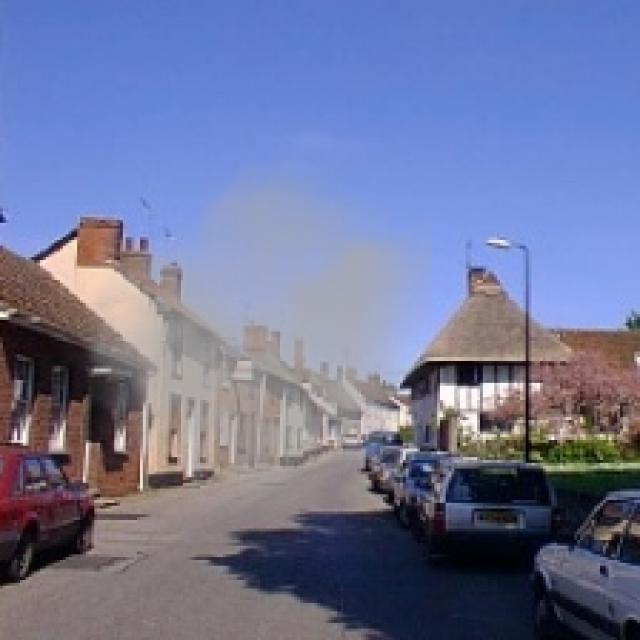Smoke: (42, 146, 432, 534)
